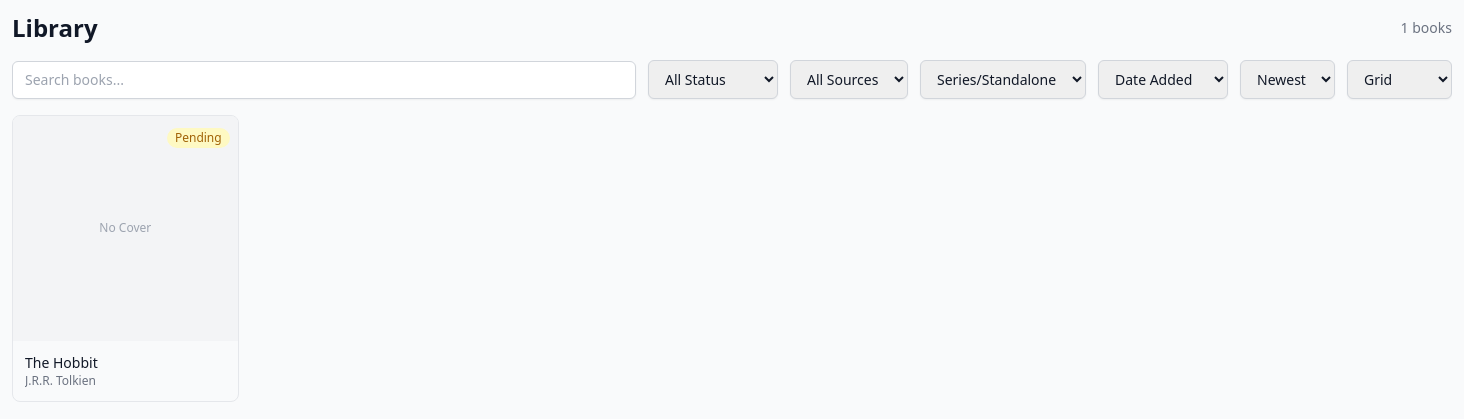
Test: LibraryPage › context menu › closes after an action, so the next right-click starts fresh
This screenshot has width=1464, height=419.
Right-click the text "The Hobbit" at (61, 362), box [25, 353, 98, 372]
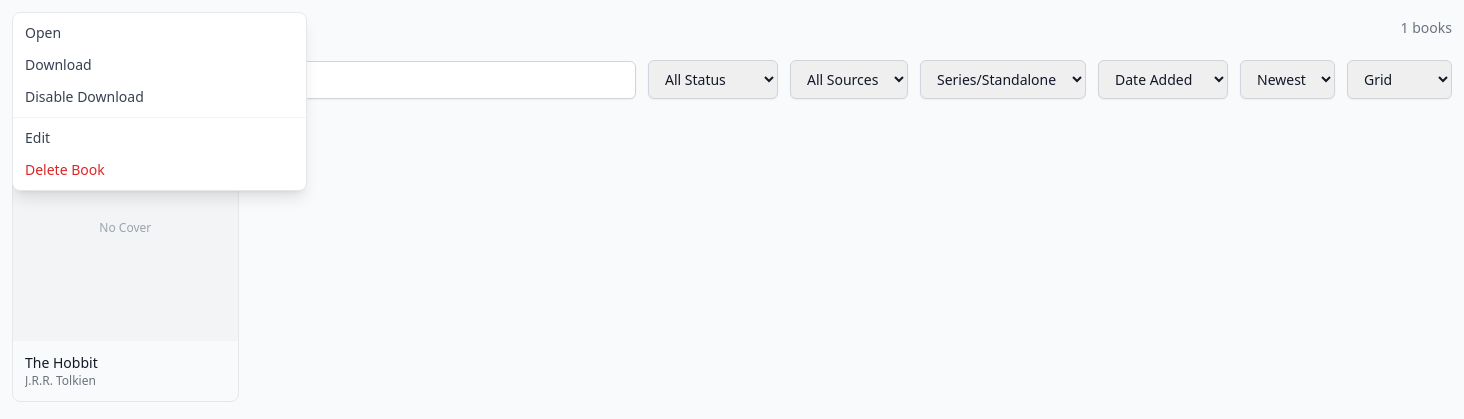
Click the button "Disable Download" at (84, 96), box [13, 81, 306, 113]
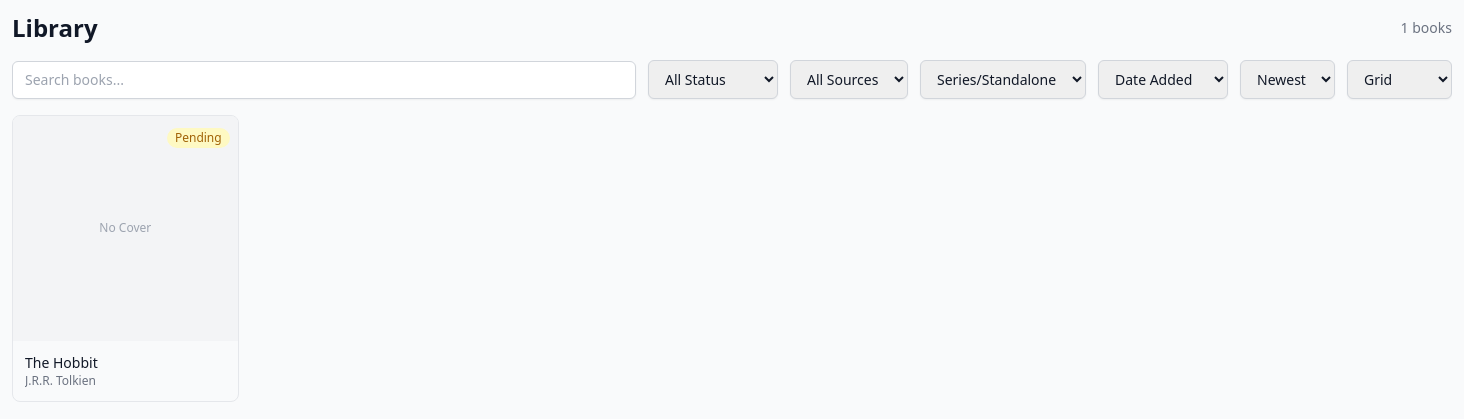
Expected: the button "Disable Download" is gone
